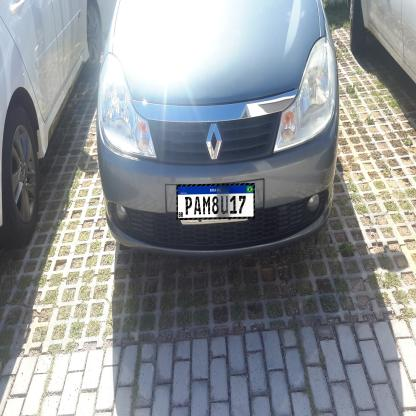PlacaM: (176, 183, 255, 220)
